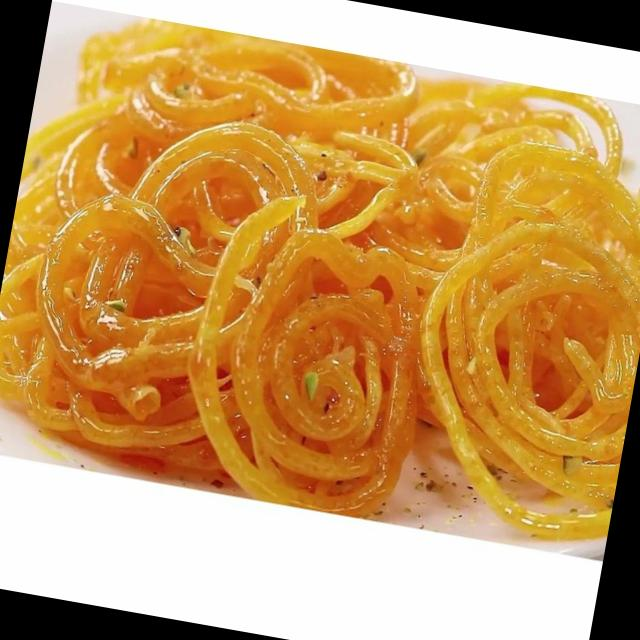jalebi: (0, 5, 640, 561)
